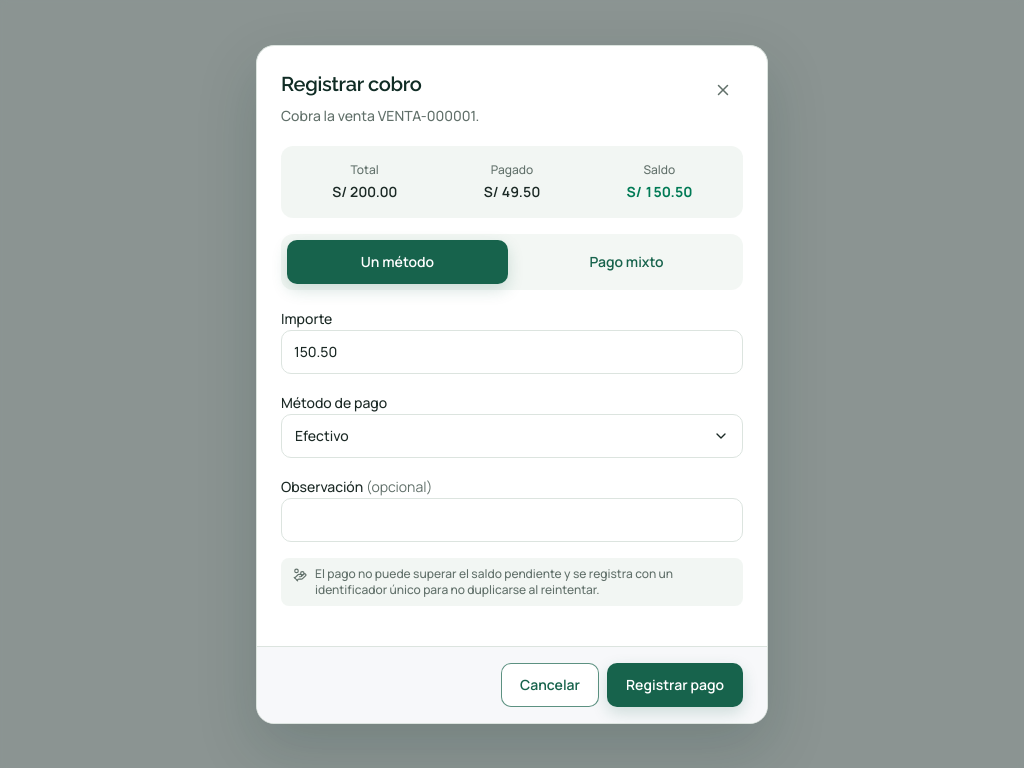
Test: Formulario de cobro (QA-07) › normaliza el importe a dos decimales al salir del campo
The width and height of the screenshot is (1024, 768).
Replace the text in the field named "Importe a cobrar" with "100" at [512, 352], box [282,330,742,372]
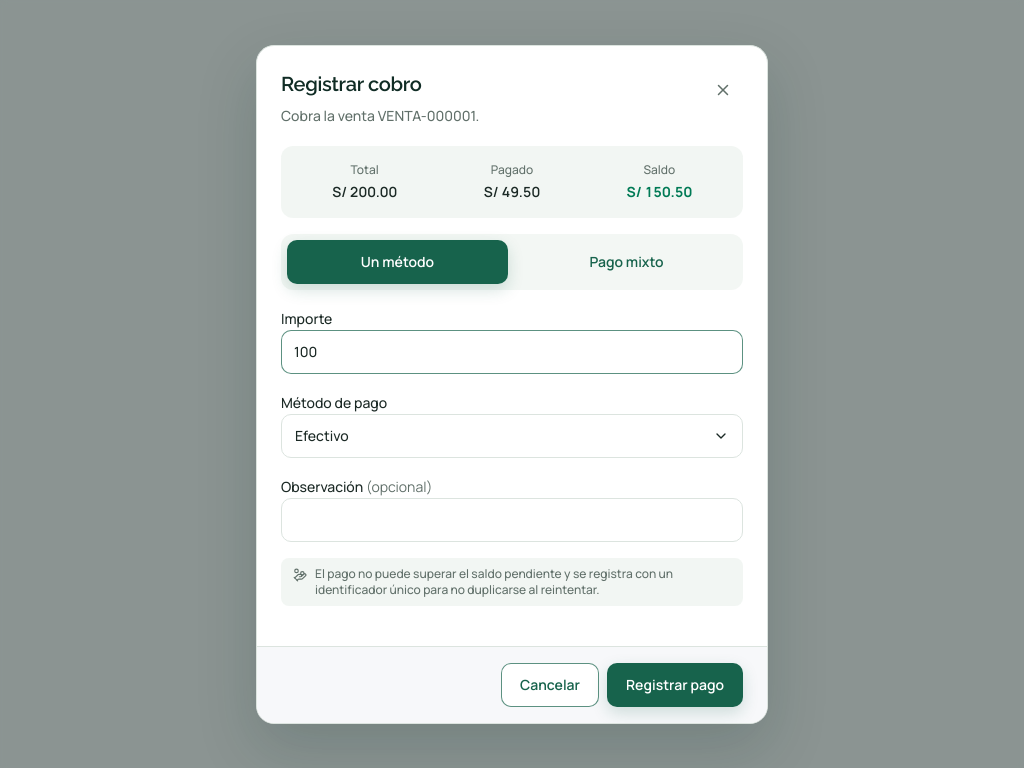
Press Tab
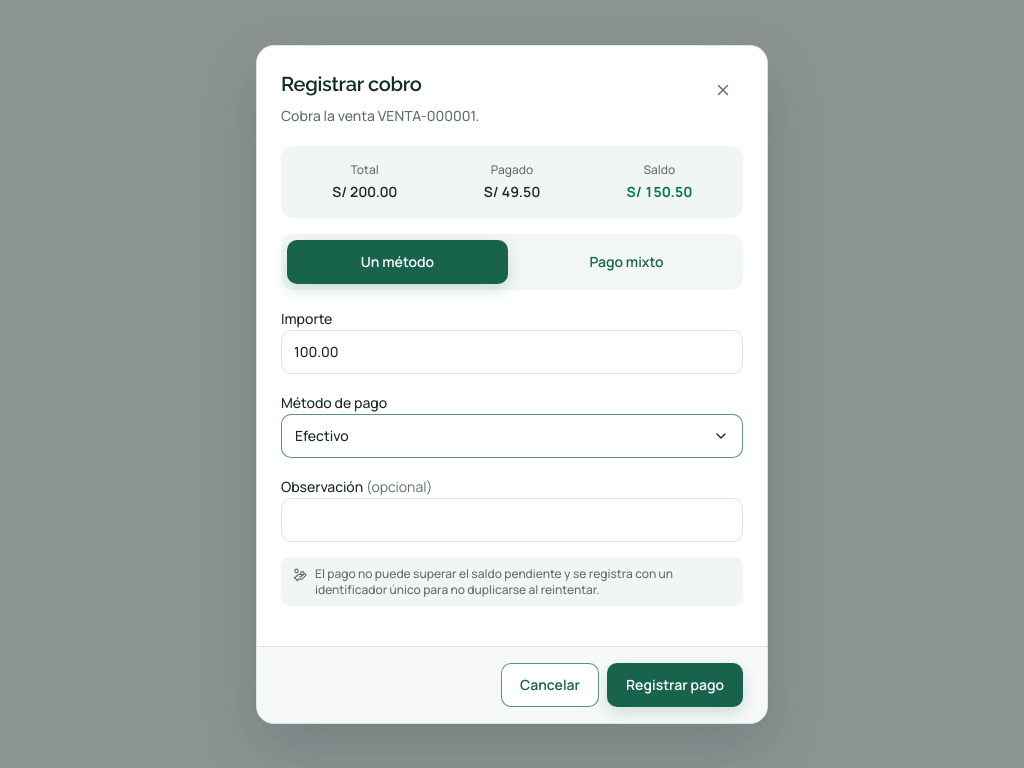
Expected: the field named "Importe a cobrar" holds "100.00", [282,330,742,372]
